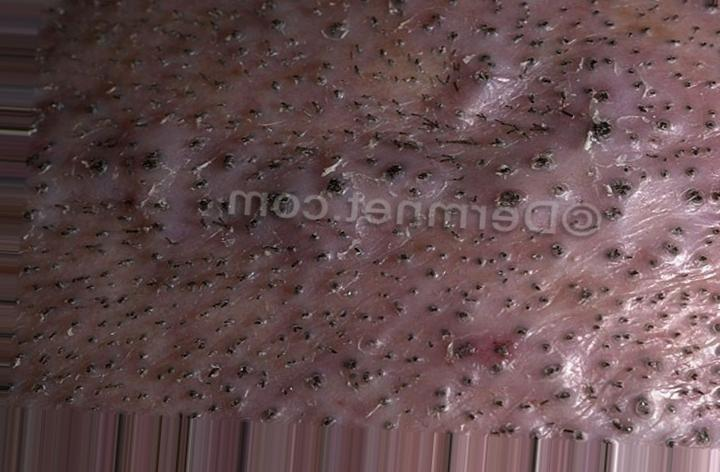Folliculitis: (56, 5, 705, 422)
